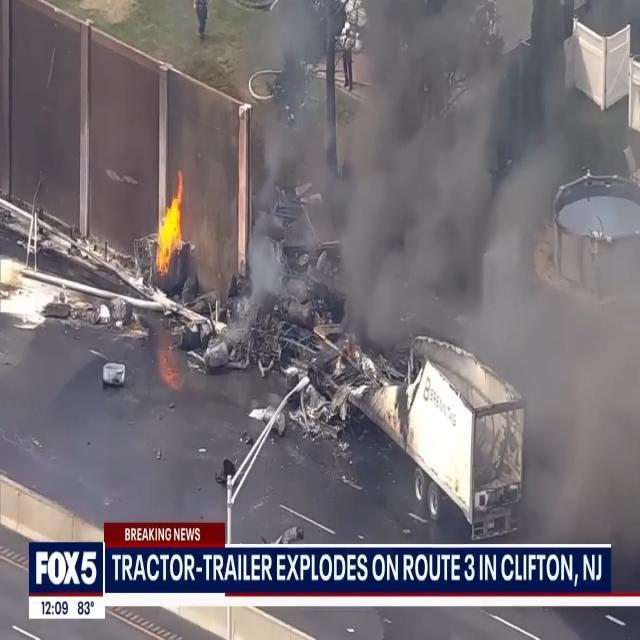fire: (148, 165, 190, 282)
